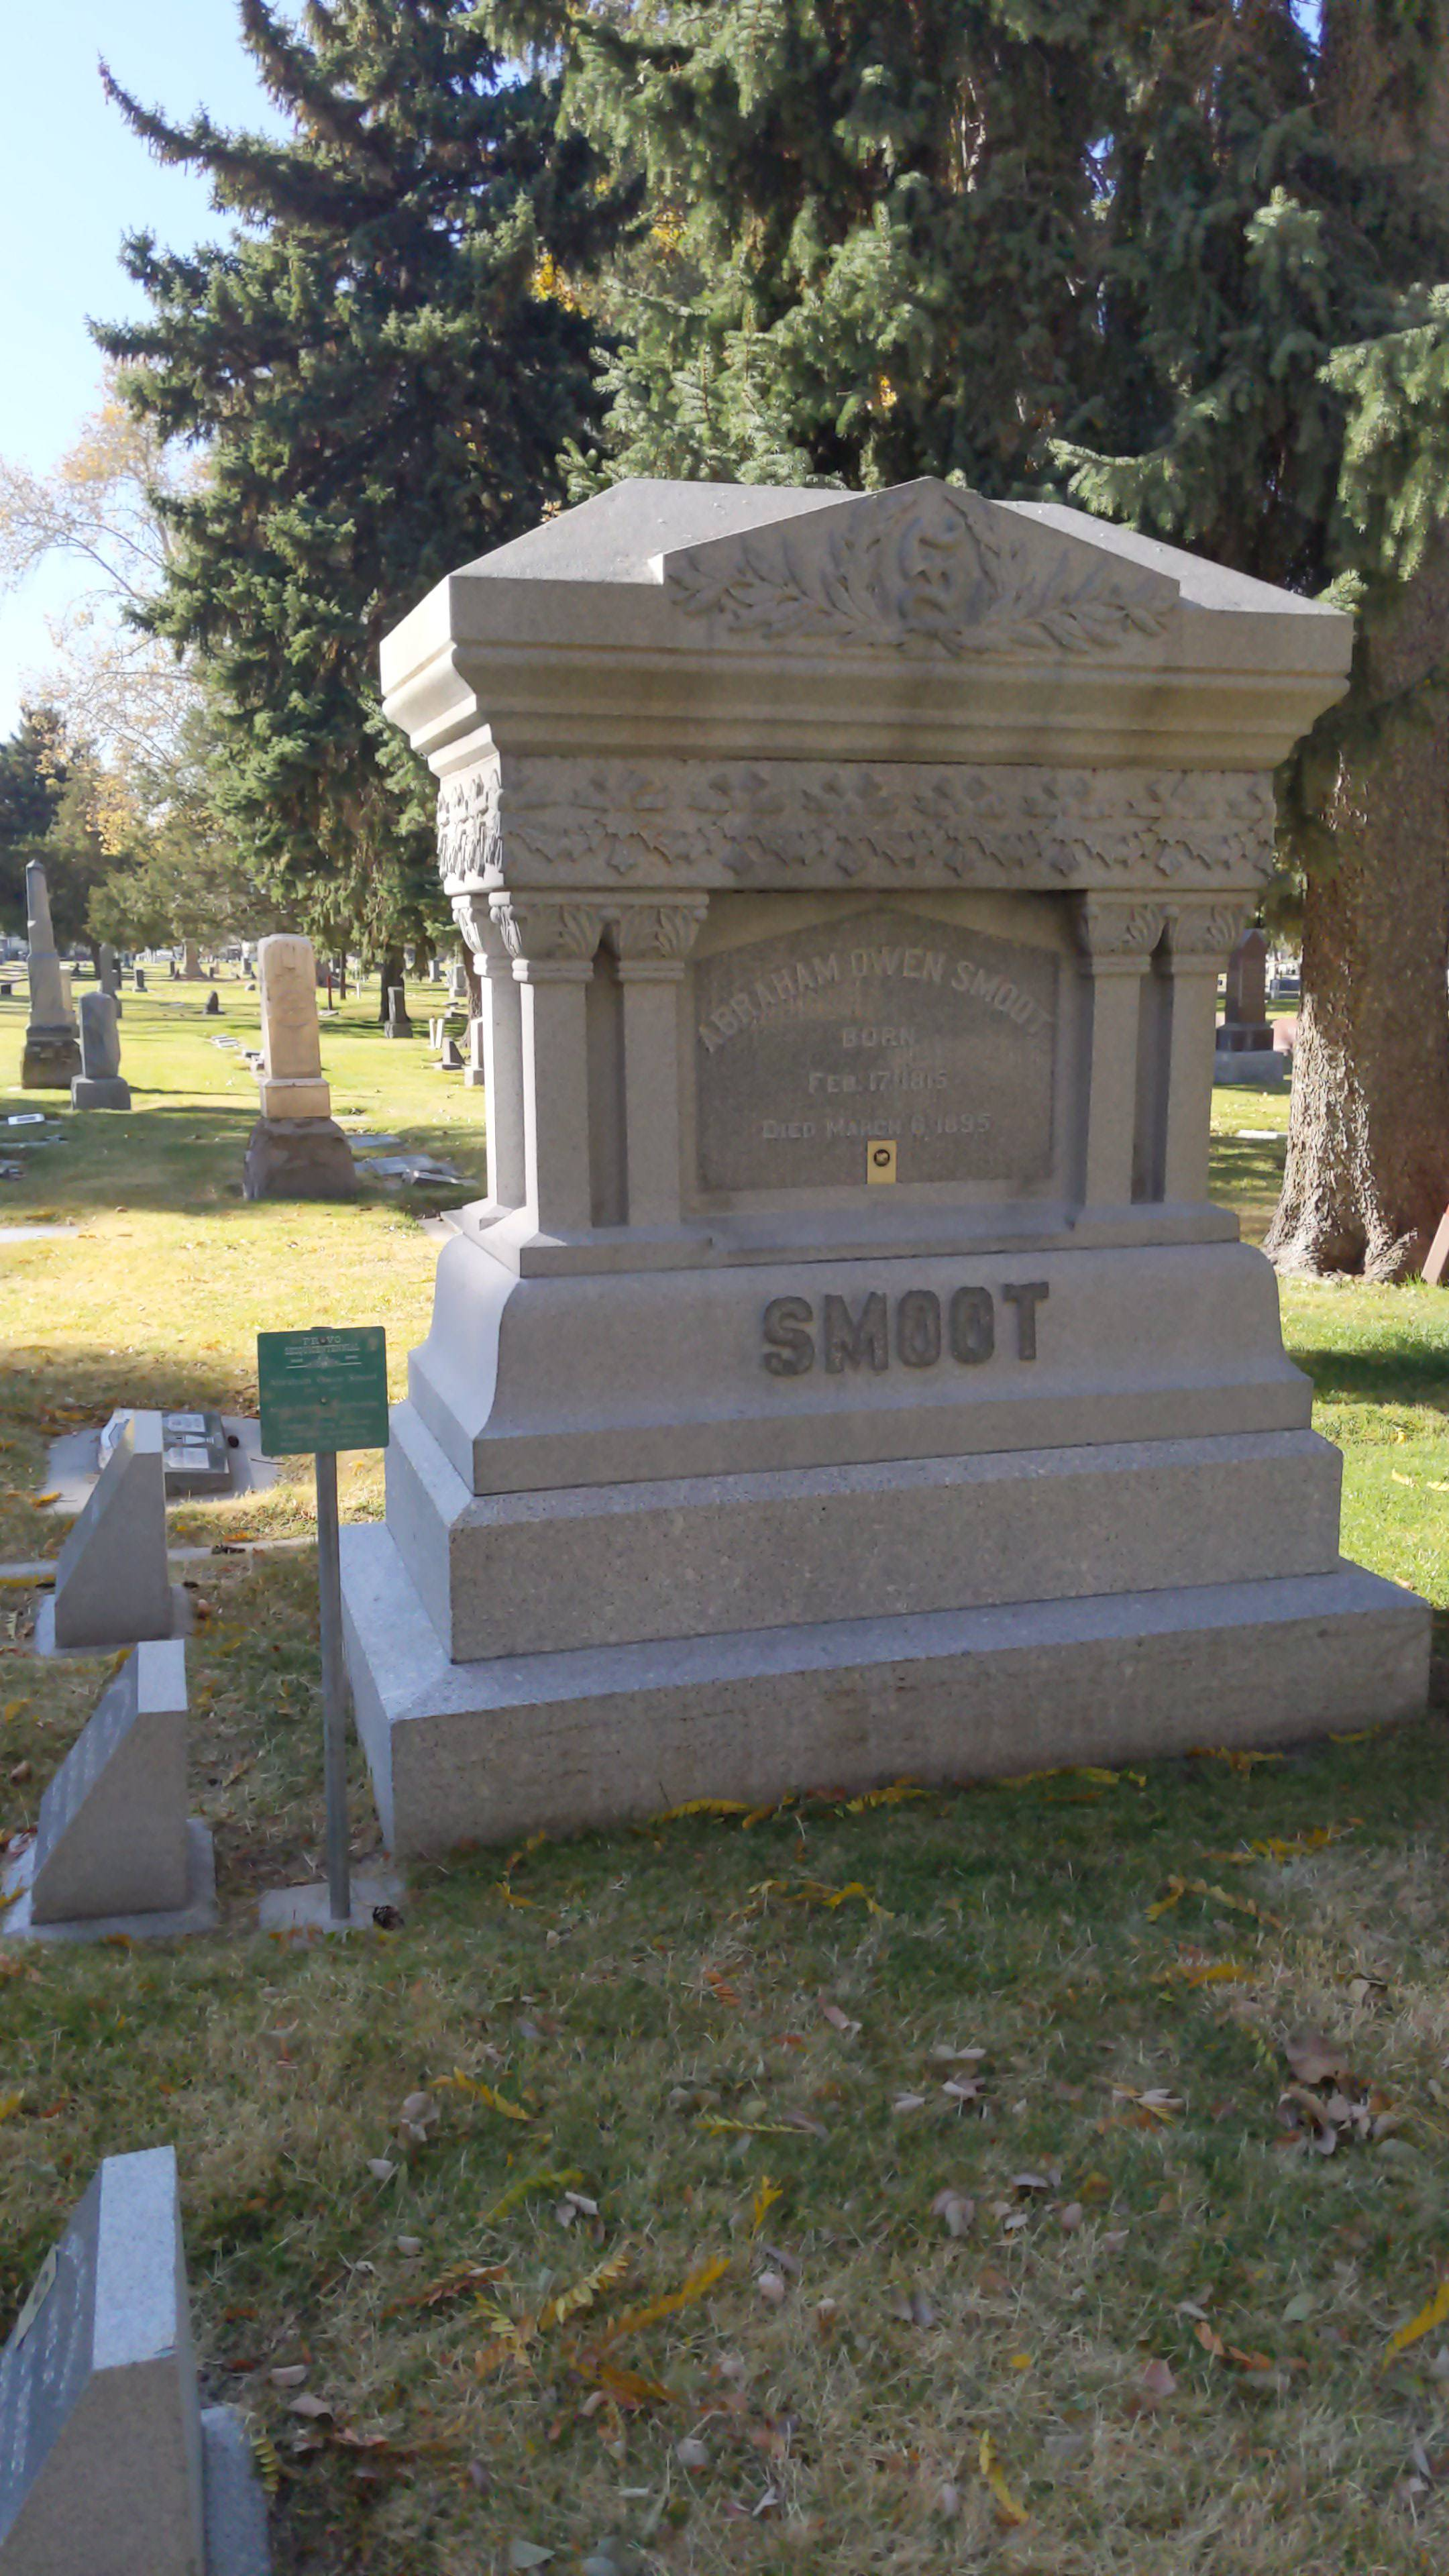mausoleum: (322, 464, 1440, 1845)
